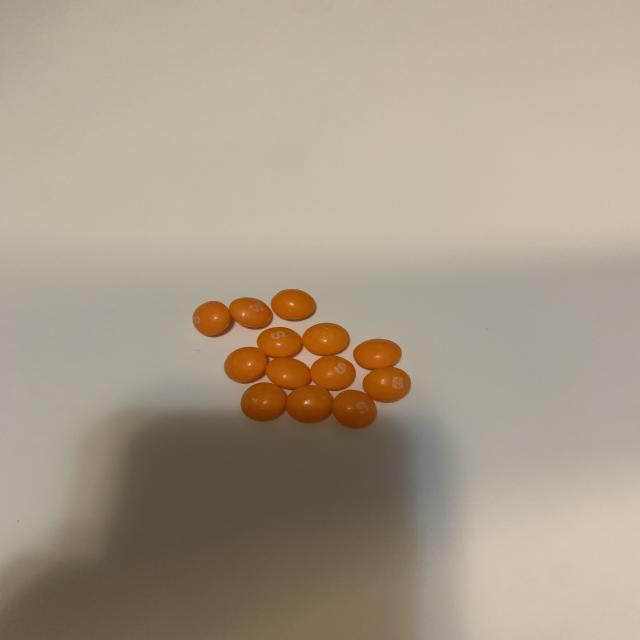smartie: (286, 385, 333, 423), (332, 390, 377, 429), (240, 383, 286, 421), (363, 367, 411, 403), (310, 355, 355, 391), (223, 347, 267, 383), (302, 323, 349, 356), (265, 357, 311, 390), (353, 339, 402, 369), (270, 289, 315, 320), (257, 327, 302, 358), (192, 301, 231, 336), (229, 297, 272, 328)
